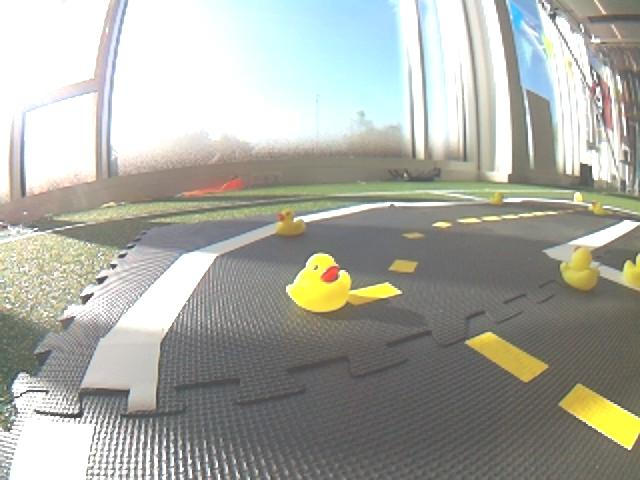Duckies: (289, 253, 352, 313), (562, 247, 599, 289), (273, 207, 307, 235), (622, 249, 640, 289), (590, 202, 605, 213), (488, 193, 502, 203), (575, 194, 582, 201)
